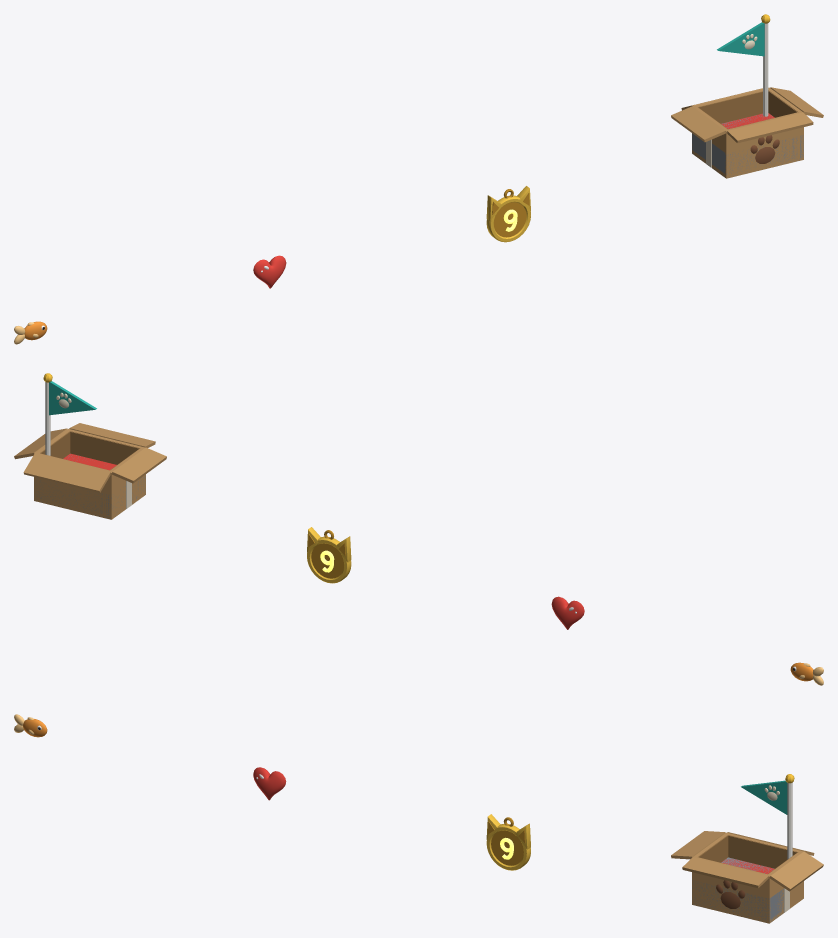
Rendered from items.glb.
The picture shows the model from 3 angles, top to bottom: view 1: azimuth 30°, elevation 25°; view 2: azimuth 150°, elevation 25°; view 3: azimuth 330°, elevation 25°; orthographic projection.
Visible parts, largest first — view 1: checkpoint_box_body, charm_nine_body, checkpoint_box_flag, COL_checkpoint_box, heart_body; view 2: checkpoint_box_body, charm_nine_body, checkpoint_box_flag, heart_body; view 3: checkpoint_box_body, charm_nine_body, COL_checkpoint_box, checkpoint_box_flag, heart_body, treat_fish_body.
Part boxes in pixels (x1,y1,x2,y2): checkpoint_box_body: (671,87,823,178); charm_nine_body: (486,186,530,242); checkpoint_box_flag: (717,14,770,116); COL_checkpoint_box: (692,114,803,177); heart_body: (253,255,286,288); checkpoint_box_body: (14,423,166,519); charm_nine_body: (307,527,351,583); checkpoint_box_flag: (43,373,96,455); heart_body: (551,596,584,629); checkpoint_box_body: (671,831,823,923); charm_nine_body: (486,814,530,870); COL_checkpoint_box: (692,857,783,922); checkpoint_box_flag: (741,774,794,859); heart_body: (253,767,286,800); treat_fish_body: (14,714,47,737).
Bounding box in the file's own units: 13.27 × 2.42 × 1.63.
